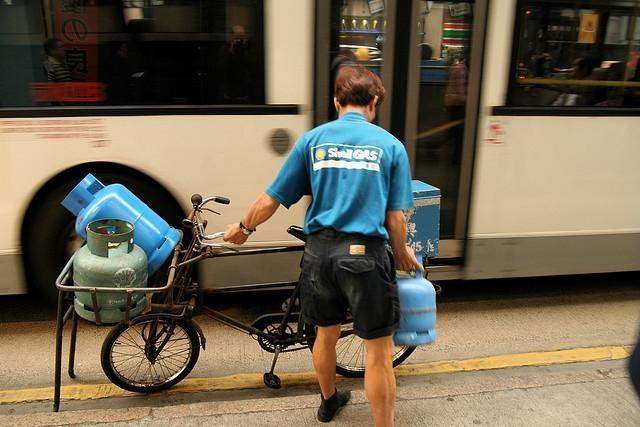bicycle: (48, 174, 446, 416)
bus: (3, 1, 640, 310)
